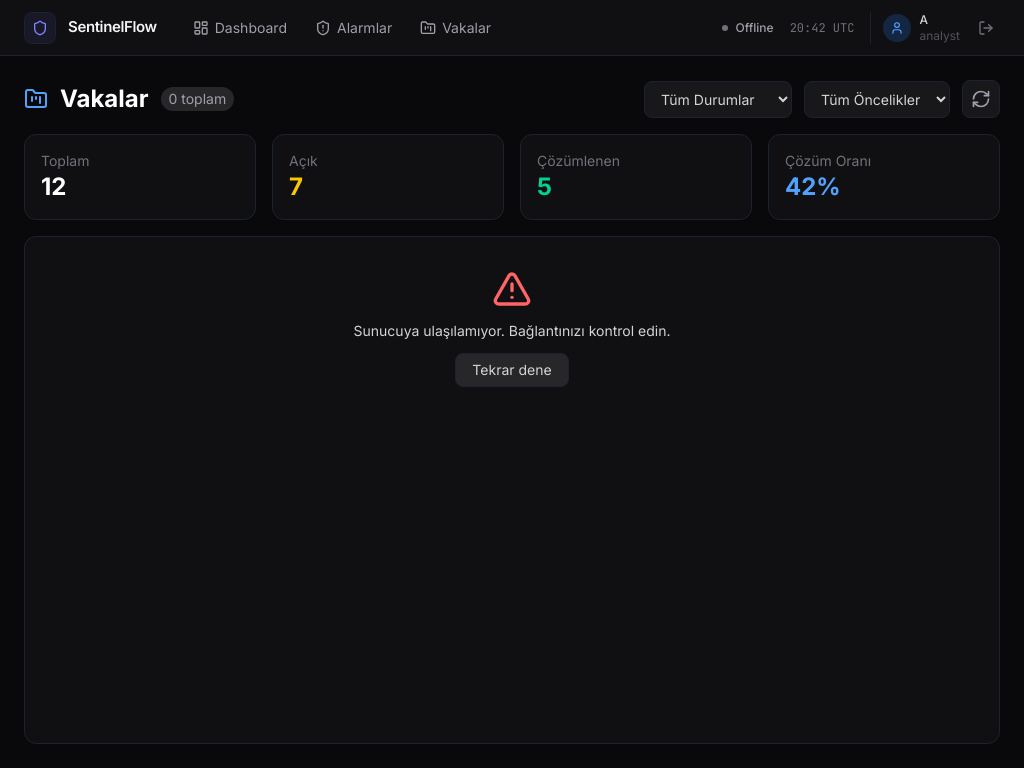
Test case: CasesPage › shows the error state and recovers after retry
Expected: the message shows "Sunucuya ulaşılamıyor. Bağlantınızı kontrol edin.", x1=354 y1=322 x2=670 y2=339
Click the button "Tekrar dene" at [512, 370], box x1=455 y1=353 x2=569 y2=387
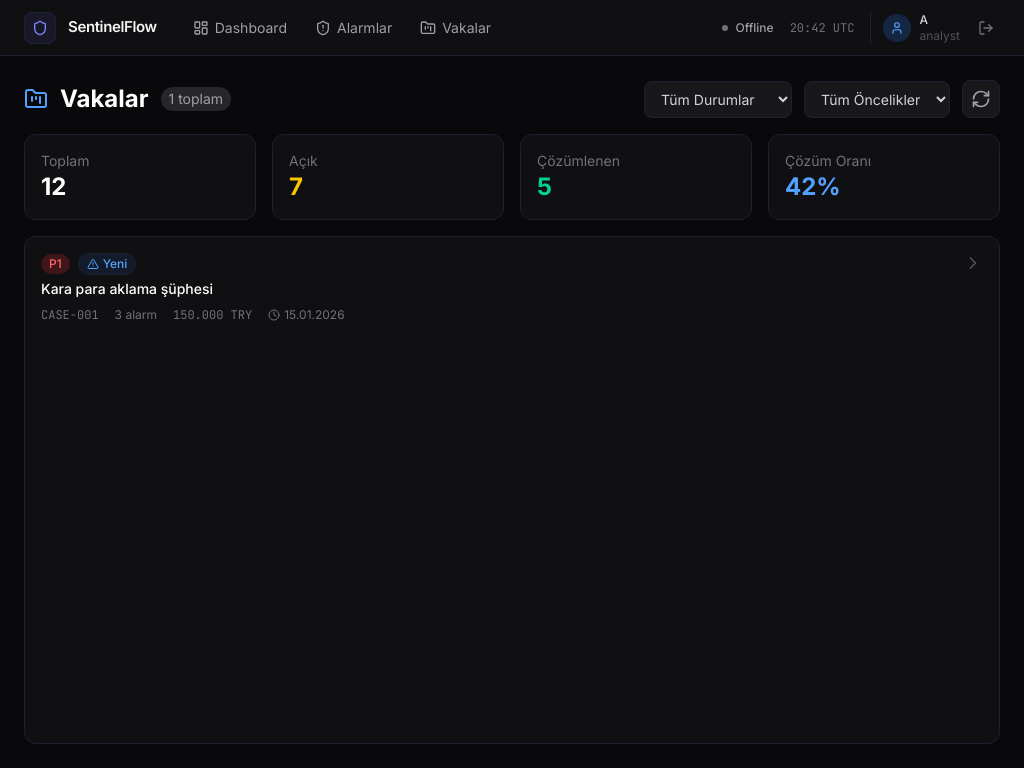
Expected: the heading "Kara para aklama şüphesi" is shown, x1=41 y1=280 x2=213 y2=297
